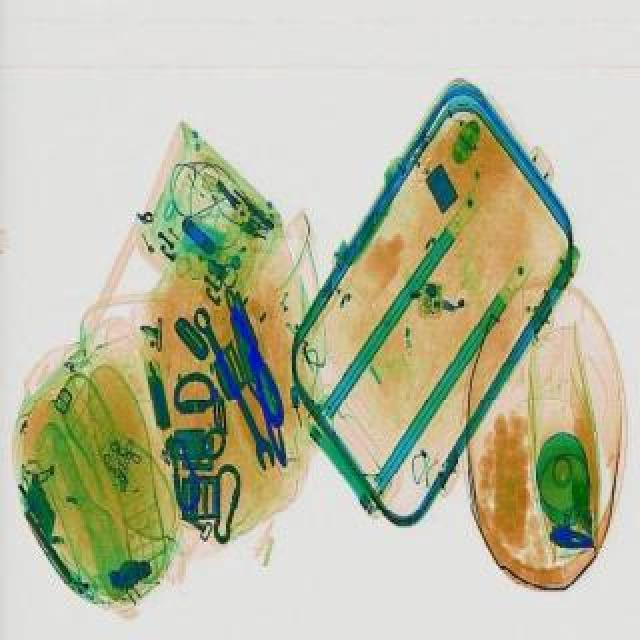scissors: (186, 300, 280, 468)
